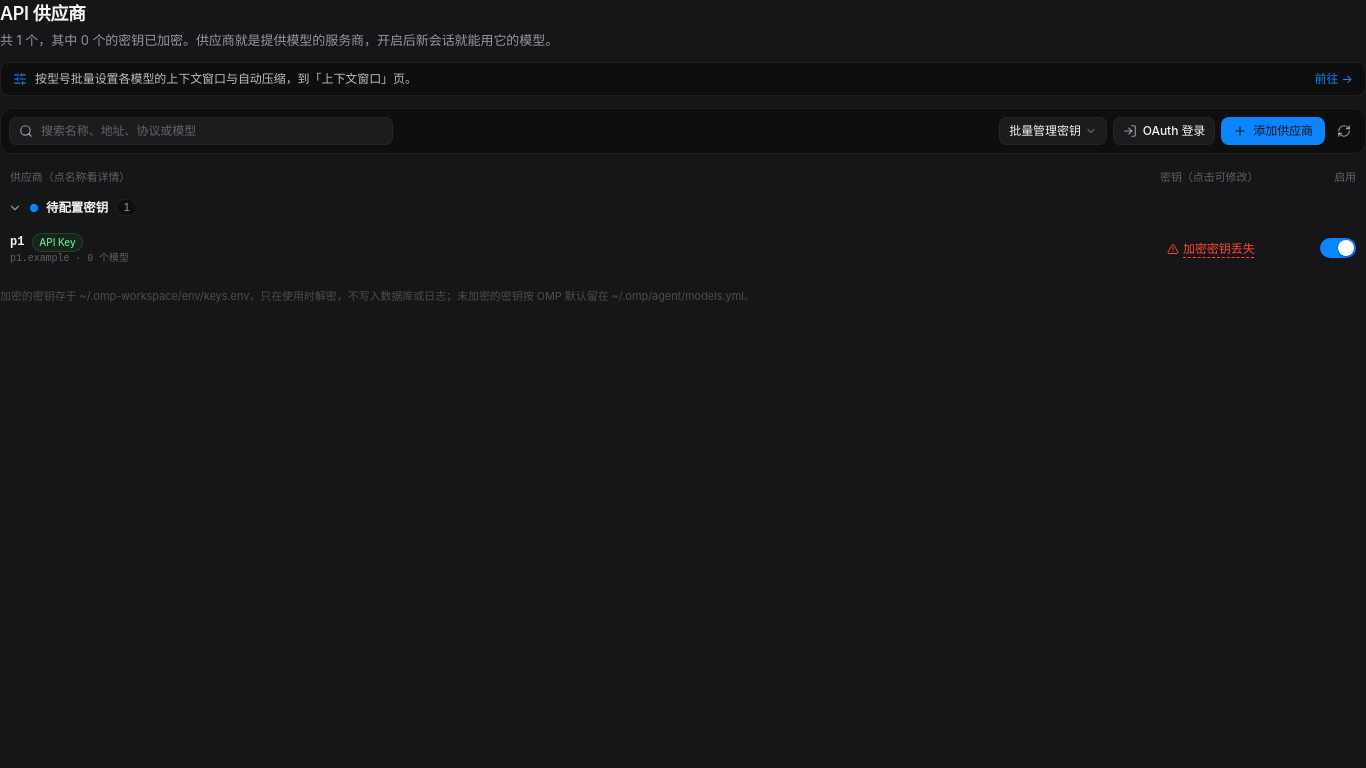
Test: key column › vaultMissing opens the 设置密钥 dialog
Expected: the text "供应商（点名称看详情）" is shown, [10, 170, 130, 184]
Click the button "加密密钥丢失": (1211, 249) [1160, 238, 1262, 260]
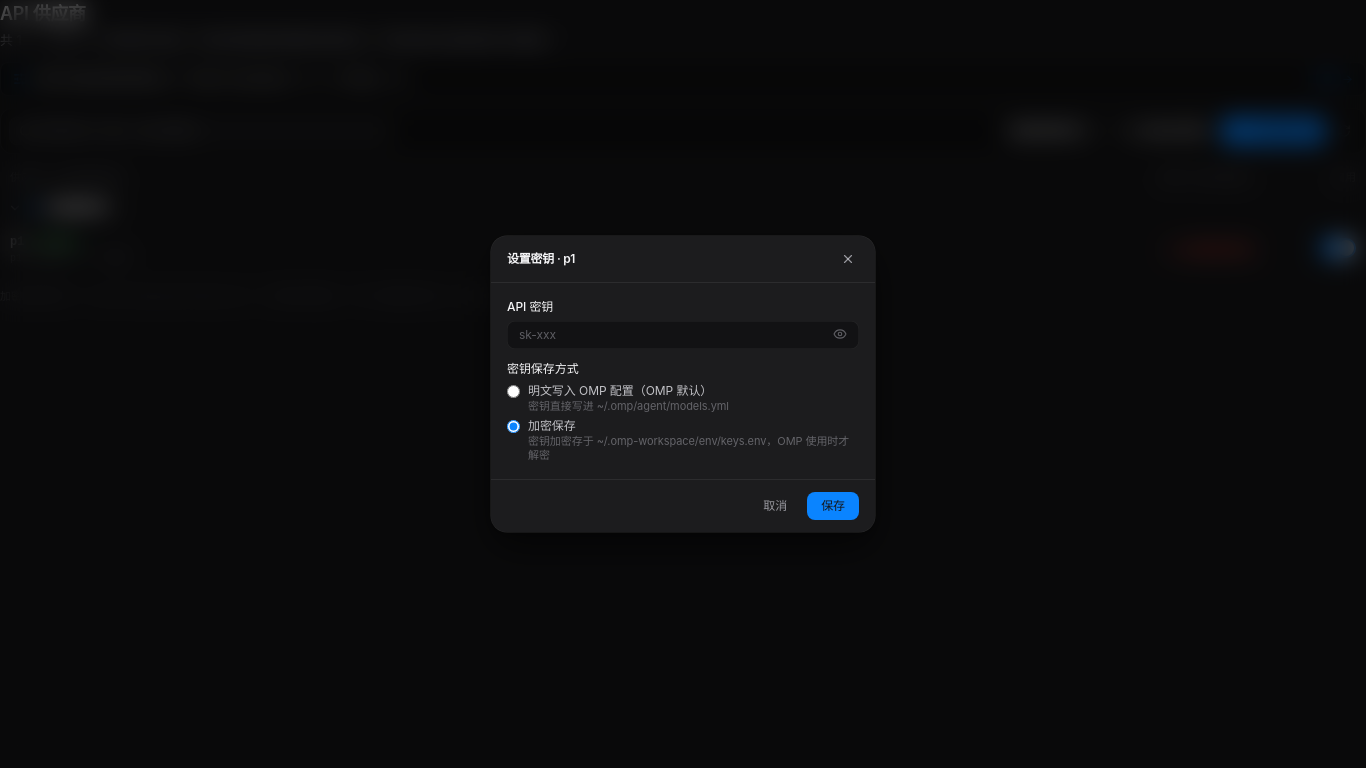
Expected: the dialog "设置密钥" is shown, [491, 236, 875, 532]
